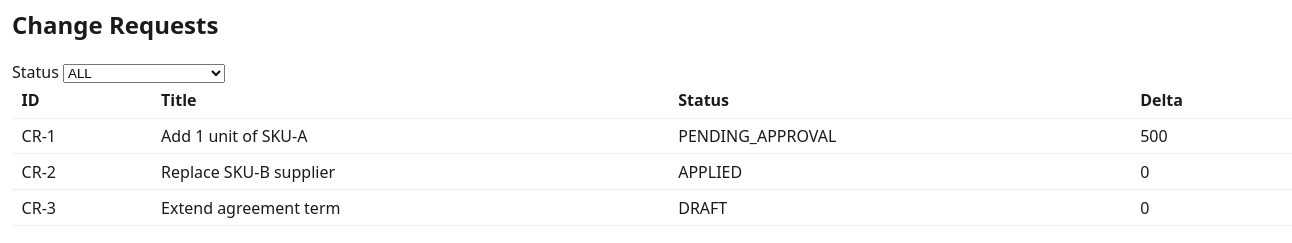
Test: CrListComponent › shows an empty message when no requests match the filter
Select "REJECTED" in the dropdown with class "cr-list__filter": (144,73) x1=63 y1=64 x2=225 y2=83
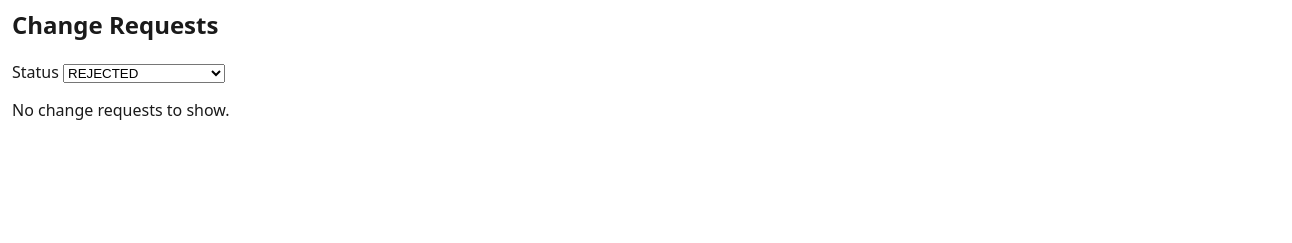
Expected: the text with class "cr-list__empty" reads "No change requests to show.", x1=12 y1=99 x2=230 y2=121
Expected: the table with class "cr-list__table" is gone
